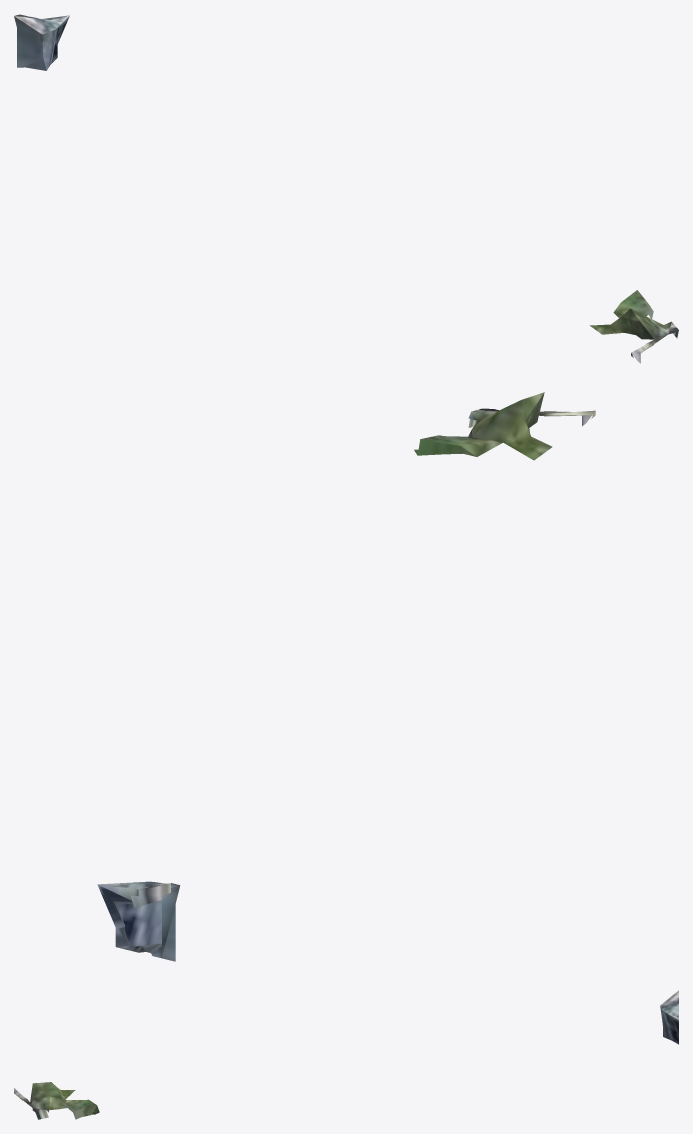
3 views of the same model, one above another, from view 1: azimuth 30°, elevation 25°; view 2: azimuth 150°, elevation 25°; view 3: azimuth 270°, elevation 25° (orthographic). The views are drawn at different scales.
Parts seen in each view (by area): view 1: 30436272704361737717_0; view 2: 30436272704361737717_0; view 3: 30436272704361737717_0.
Boxes of the visible parts, bbox=[...] form: 30436272704361737717_0: bbox=[14, 14, 678, 363]; 30436272704361737717_0: bbox=[97, 392, 595, 961]; 30436272704361737717_0: bbox=[14, 990, 678, 1119].
Bounding box in the file's own units: 11.66 × 2.94 × 38.25.
Materials: 1 (1 with a texture image).
